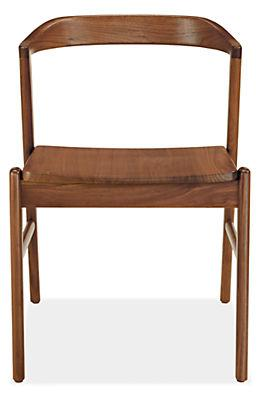chair: (10, 8, 254, 395)
